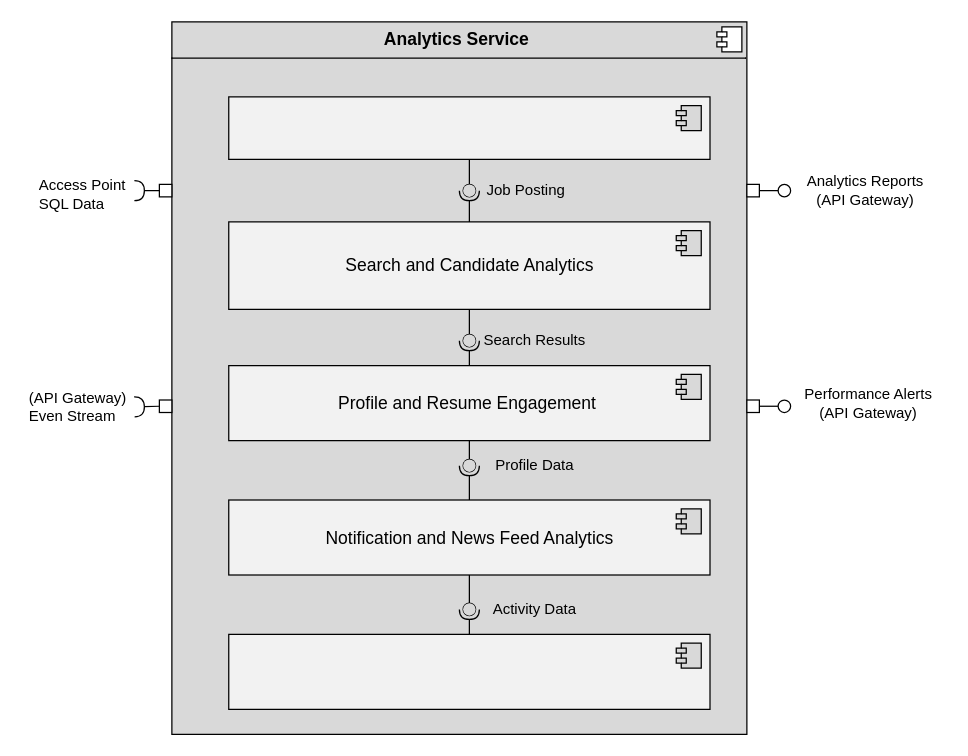
The diagram is 968 pixels wide and 756 high, and some of its shapes have lost their labels. The shapes that lost their labels are listed below. From the top down, each one's centre as x and y in pixels, then its label:
At (x=469, y=127): "Job Posting Analytics".
At (x=469, y=671): "Performance Monitor".
